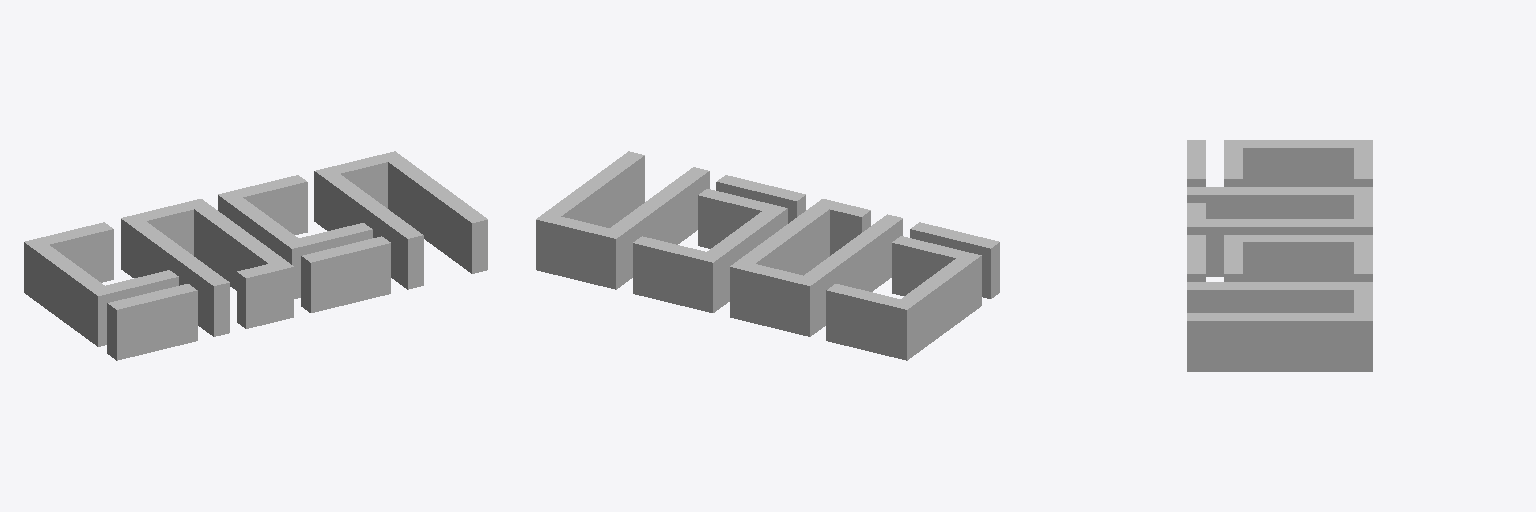
File: eden.obj
3 renders of one model, left to right at view 1: azimuth 30°, elevation 25°; view 2: azimuth 150°, elevation 25°; view 3: azimuth 270°, elevation 25°, orthographic.
Parts seen in each view (by area): view 1: Text; view 2: Text; view 3: Text.
Boxes of the visible parts, <box> form: Text: <box>24,151,487,360</box>; Text: <box>536,151,999,360</box>; Text: <box>1187,140,1372,371</box>.
Bounding box in the file's own units: 2.76 × 0.36 × 1.2.